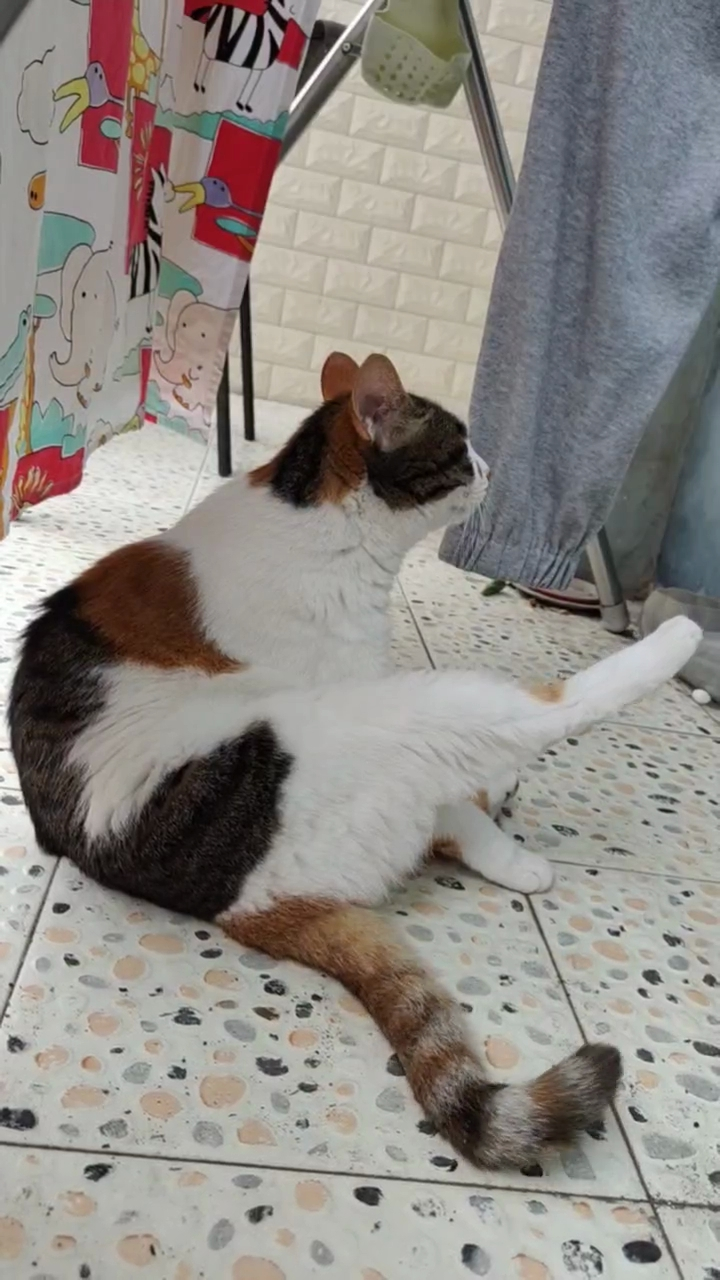猫: (142, 466, 608, 1267)
